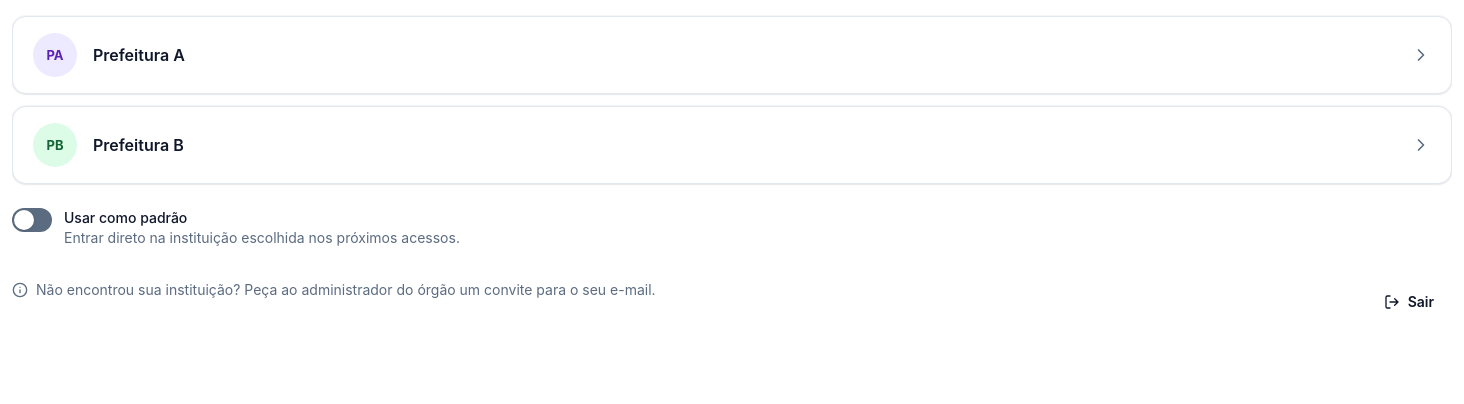
seleção de instituição (FA-01) › erro 422 VALIDATION_ERROR vira mensagem inline com role=alert
Click the button "PA Prefeitura A": (55, 55) top-left (12, 16), bottom-right (1452, 94)
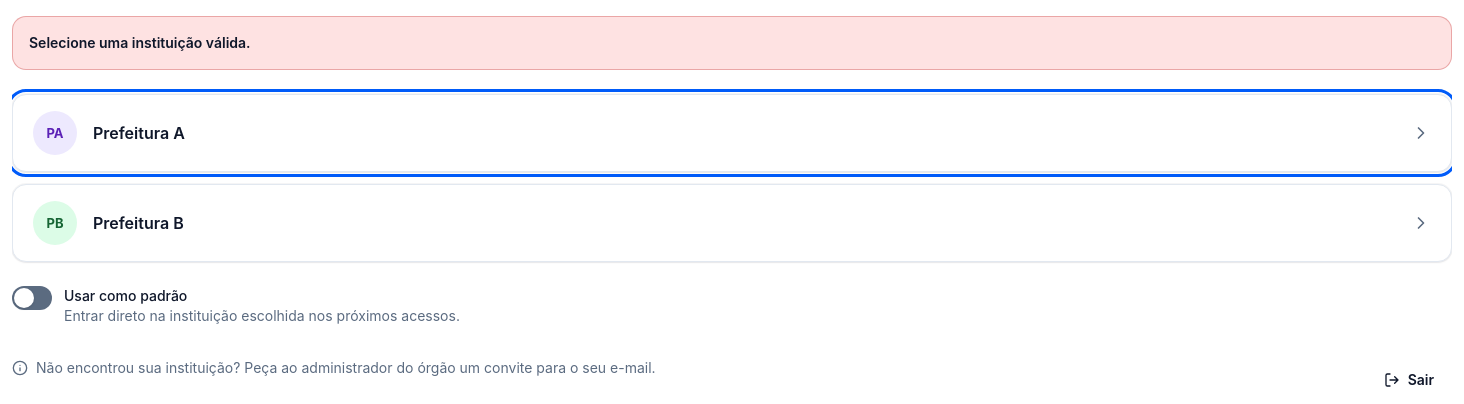
Expected: the message reads "Selecione uma instituição válida.", top-left (29, 34), bottom-right (251, 51)
